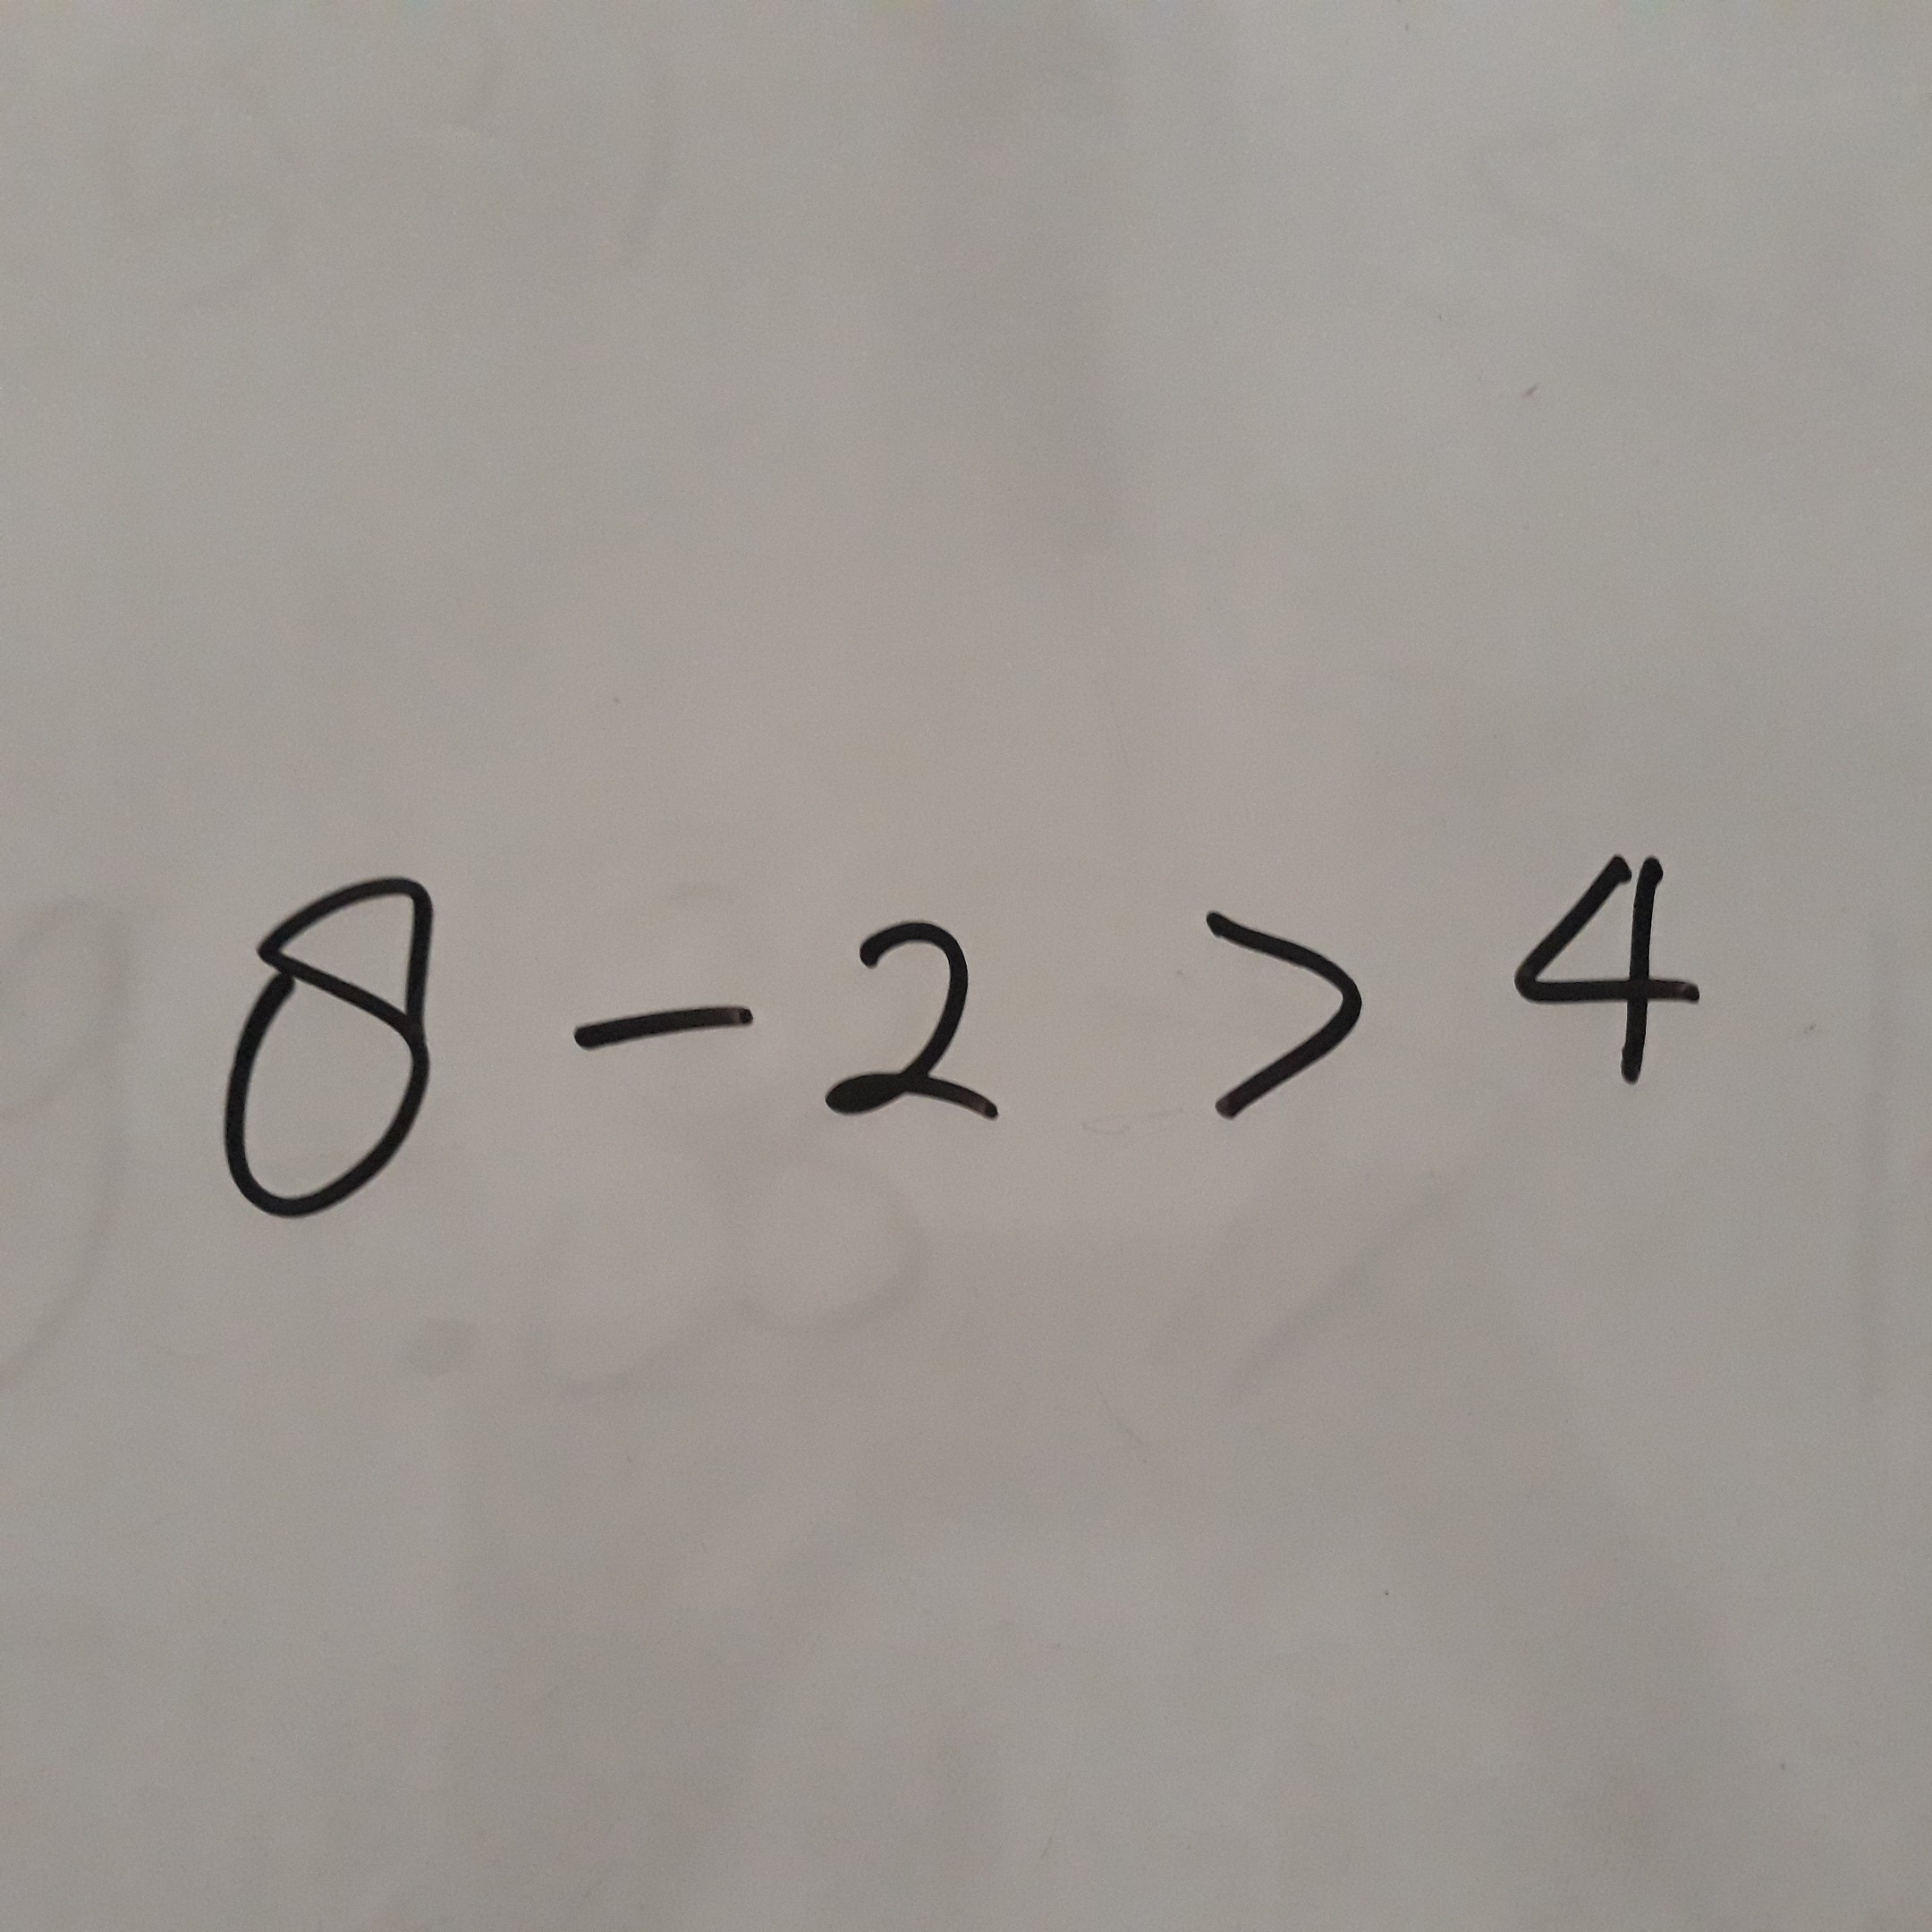min: (544, 973, 768, 1076)
morethan: (1159, 883, 1388, 1155)
num2: (801, 892, 1030, 1164)
num4: (1496, 833, 1724, 1105)
num8: (201, 869, 457, 1240)
